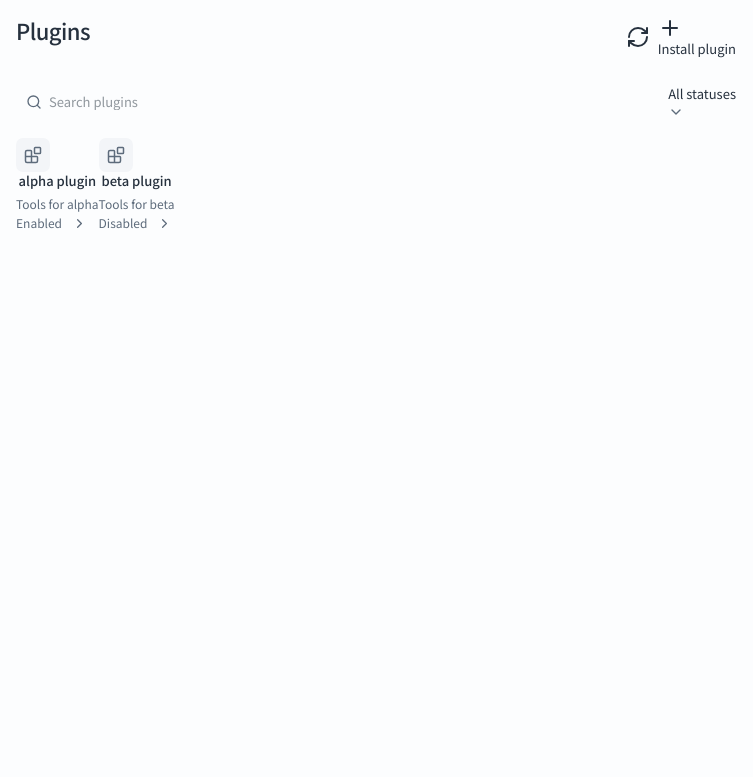
Test: installation cancellation preserves the catalog and a confirmed receipt survives refresh failure
Check: the button with aria-label "Open alpha plugin" is shown, box [16,138,99,233]
Click the button "Install plugin" at (697, 37), box [658,16,736,59]
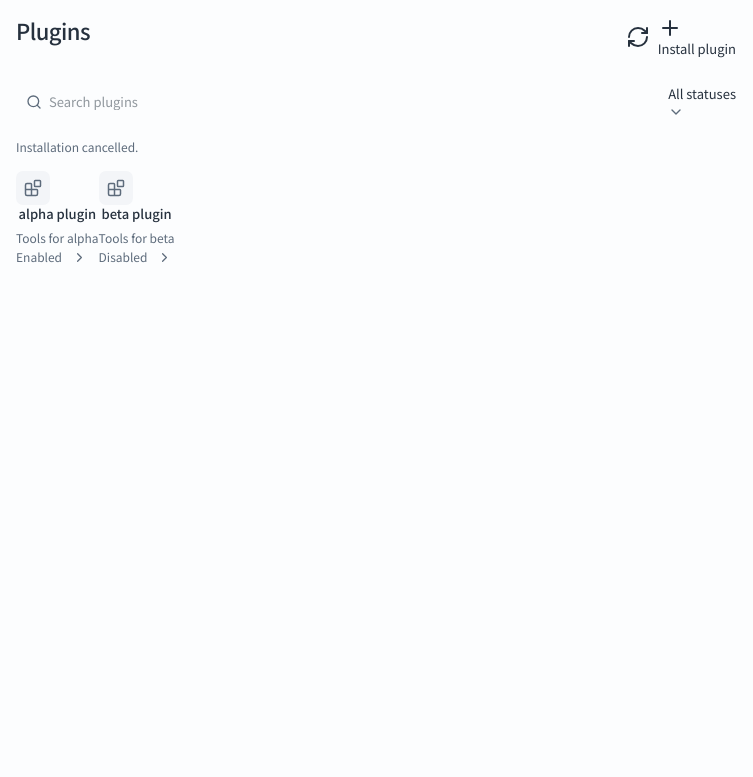
Check: the button with aria-label "Open alpha plugin" is shown, box [16,172,99,267]
Check: the text "Installation cancelled." is shown, box [16,140,138,154]
Click the button "Install plugin" at (697, 37), box [658,16,736,59]
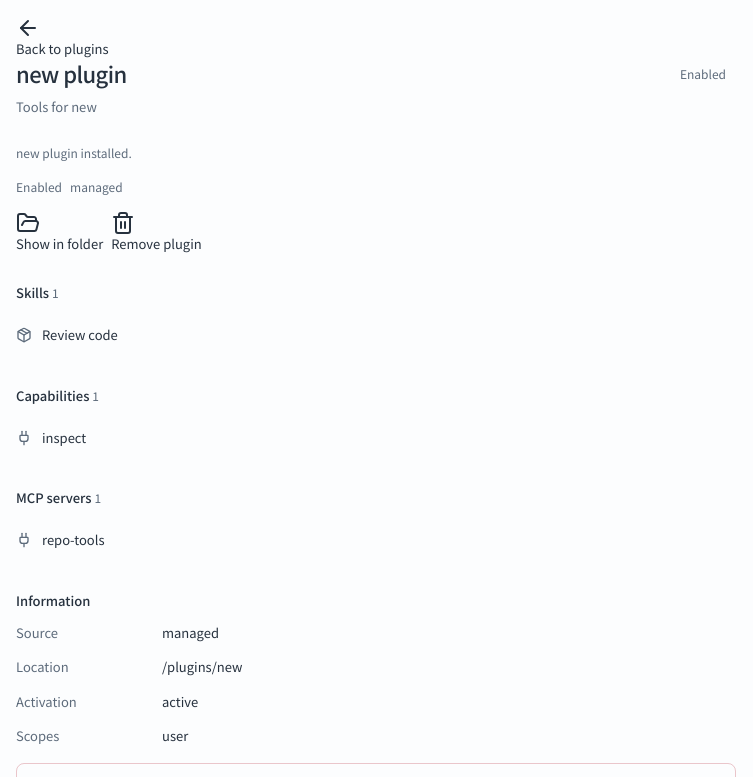
Check: the heading "new plugin" is shown, box [16,59,127,90]
Check: the text "new plugin installed." is shown, box [16,146,132,160]
